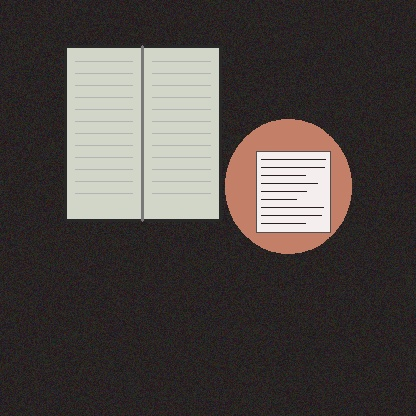book: (65, 46, 220, 220)
exam_chit: (256, 151, 330, 232)
